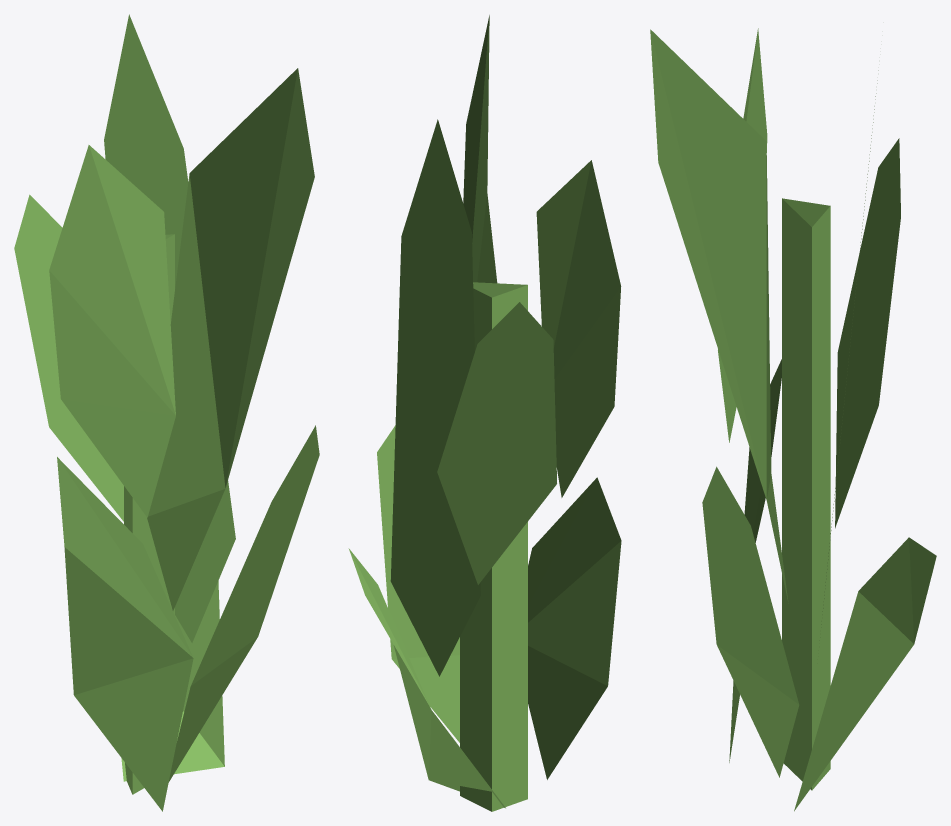
The model's file is Sugarcane_1.fbx.
The picture shows the model from 3 angles, left to right: view 1: azimuth 30°, elevation 25°; view 2: azimuth 150°, elevation 25°; view 3: azimuth 270°, elevation 25°; orthographic projection. The views are drawn at different scales.
Parts seen in each view (by area): view 1: Sugarcane_1; view 2: Sugarcane_1; view 3: Sugarcane_1.
Boxes of the visible parts, bbox=[...] form: Sugarcane_1: bbox=[14, 14, 319, 811]; Sugarcane_1: bbox=[348, 15, 621, 811]; Sugarcane_1: bbox=[650, 28, 936, 811].
Bounding box in the file's own units: 9.1 × 24.77 × 8.19.
